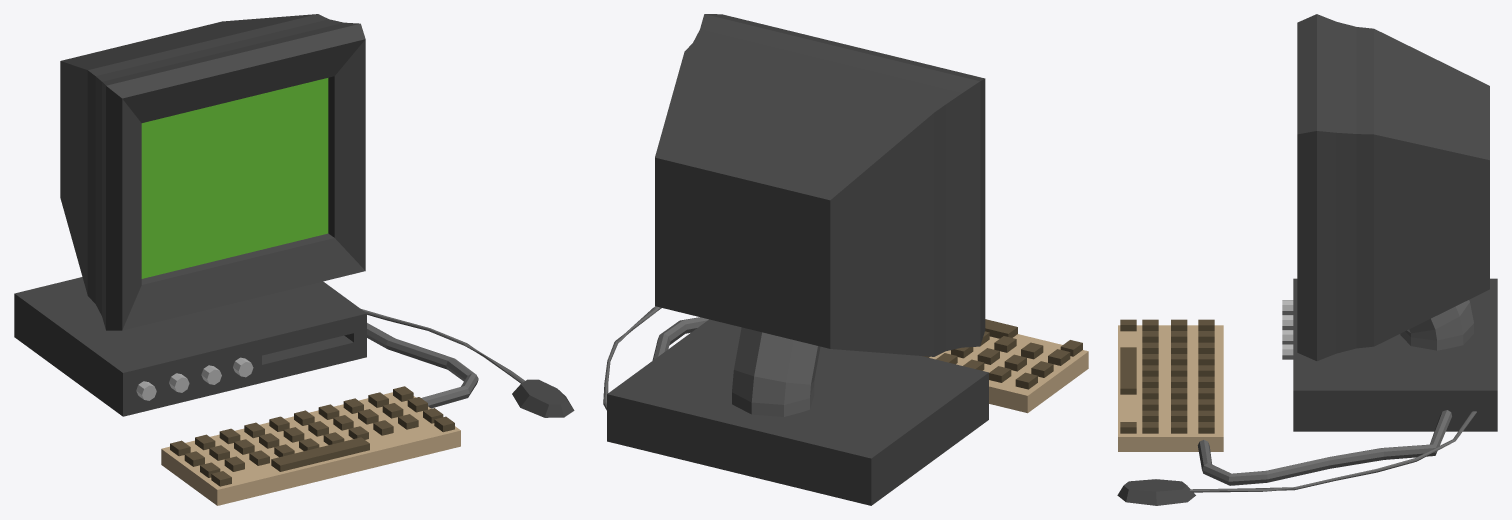
File: computadora sauce.fbx
3 views of the same model, side by side, from view 1: azimuth 30°, elevation 25°; view 2: azimuth 150°, elevation 25°; view 3: azimuth 270°, elevation 25° (orthographic). The views are drawn at different scales.
Parts seen in each view (by area): view 1: caja compu, pantalla, casetero, teclado, teclas, cable teclado, mouse, perillas, cable mouse; view 2: caja compu, casetero, Cylinder, teclado, teclas, cable teclado, cable mouse; view 3: caja compu, casetero, teclado, teclas, cable teclado, Cylinder, mouse, cable mouse, perillas.
Part boxes in pixels (x1,y1,x2,y2): caja compu: [60, 14, 365, 330]; pantalla: [141, 78, 328, 278]; casetero: [14, 277, 366, 416]; teclado: [161, 392, 460, 505]; teclas: [170, 386, 454, 486]; cable teclado: [367, 323, 478, 408]; mouse: [512, 379, 574, 417]; perillas: [136, 357, 253, 400]; cable mouse: [361, 309, 524, 383]; caja compu: [655, 14, 985, 356]; casetero: [607, 319, 988, 505]; Cylinder: [732, 327, 820, 416]; teclado: [929, 334, 1088, 413]; teclas: [922, 319, 1082, 389]; cable teclado: [652, 317, 708, 360]; cable mouse: [603, 306, 661, 410]; caja compu: [1297, 14, 1489, 360]; casetero: [1293, 278, 1497, 431]; teclado: [1118, 325, 1223, 451]; teclas: [1120, 319, 1214, 433]; cable teclado: [1197, 410, 1451, 485]; Cylinder: [1400, 300, 1473, 350]; mouse: [1117, 479, 1195, 505]; cable mouse: [1190, 411, 1476, 492]; perillas: [1282, 300, 1293, 359].
Bounding box in the file's own units: 220 × 194 × 206.
